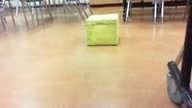cube: (85, 14, 118, 46)
